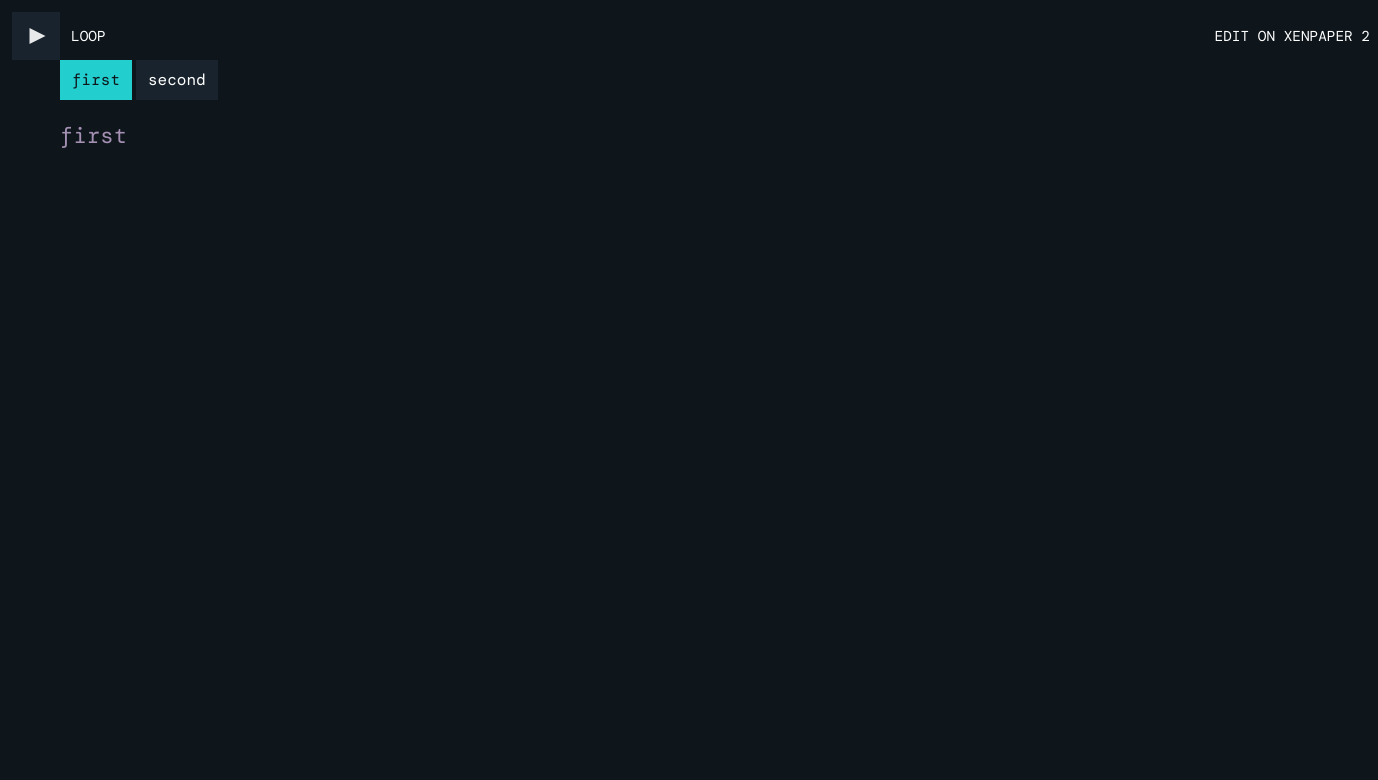
App source editor keyboard shortcuts › shows tabs in embed mode for shared multi-tab projects
Click the tab "second": click(177, 80) [136,60,218,100]
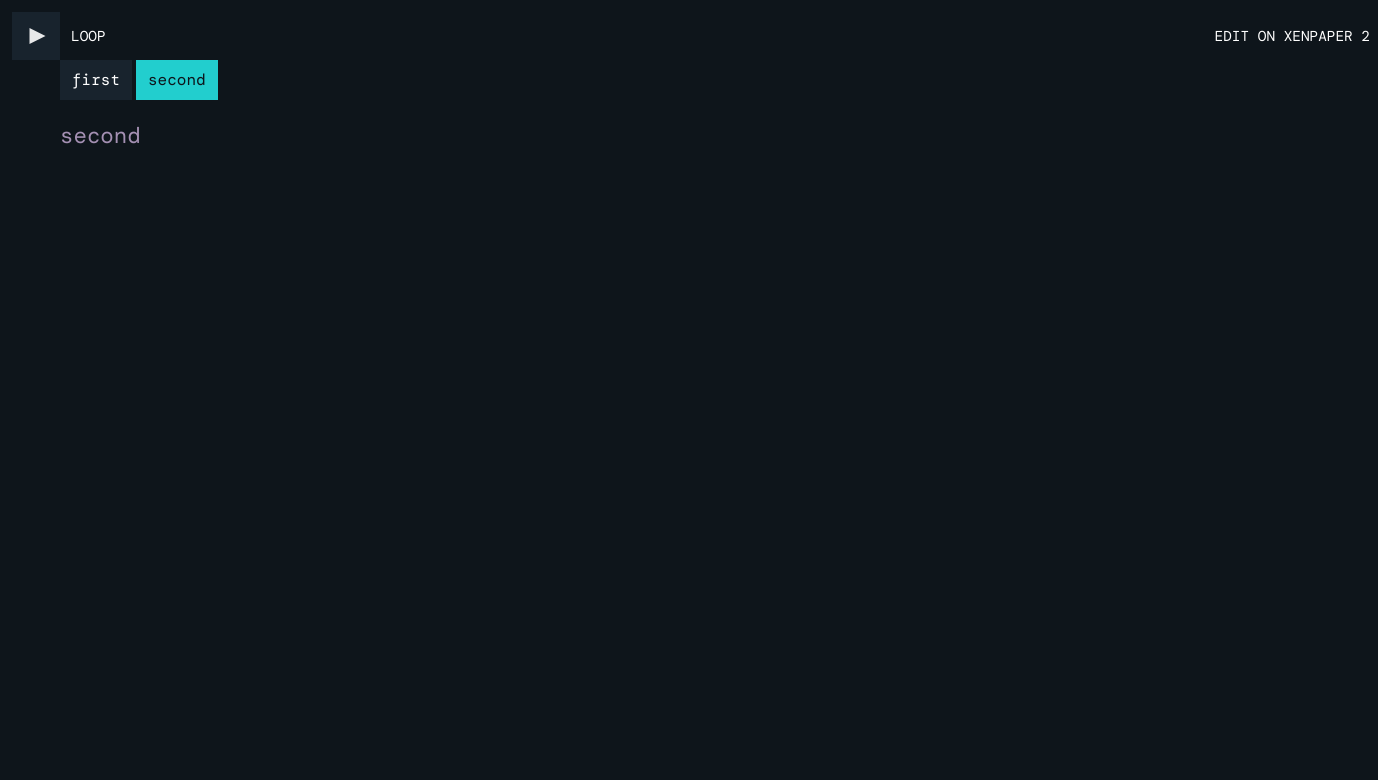
Now the text box holds "second"
